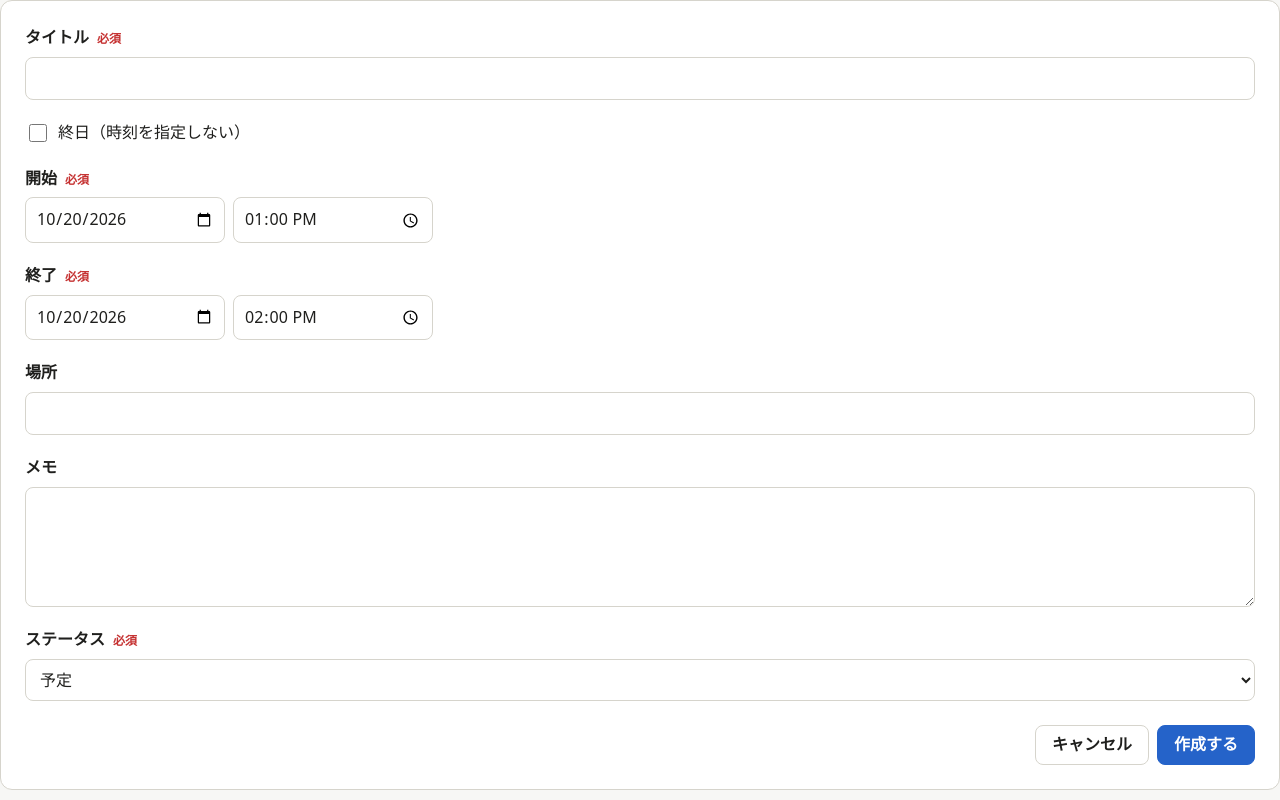
it: EventForm › 終日にすると時刻の入力を隠す
The width and height of the screenshot is (1280, 800).
Click the checkbox labelled "終日（時刻を指定しない）" at [38, 133], box [29,124,47,142]
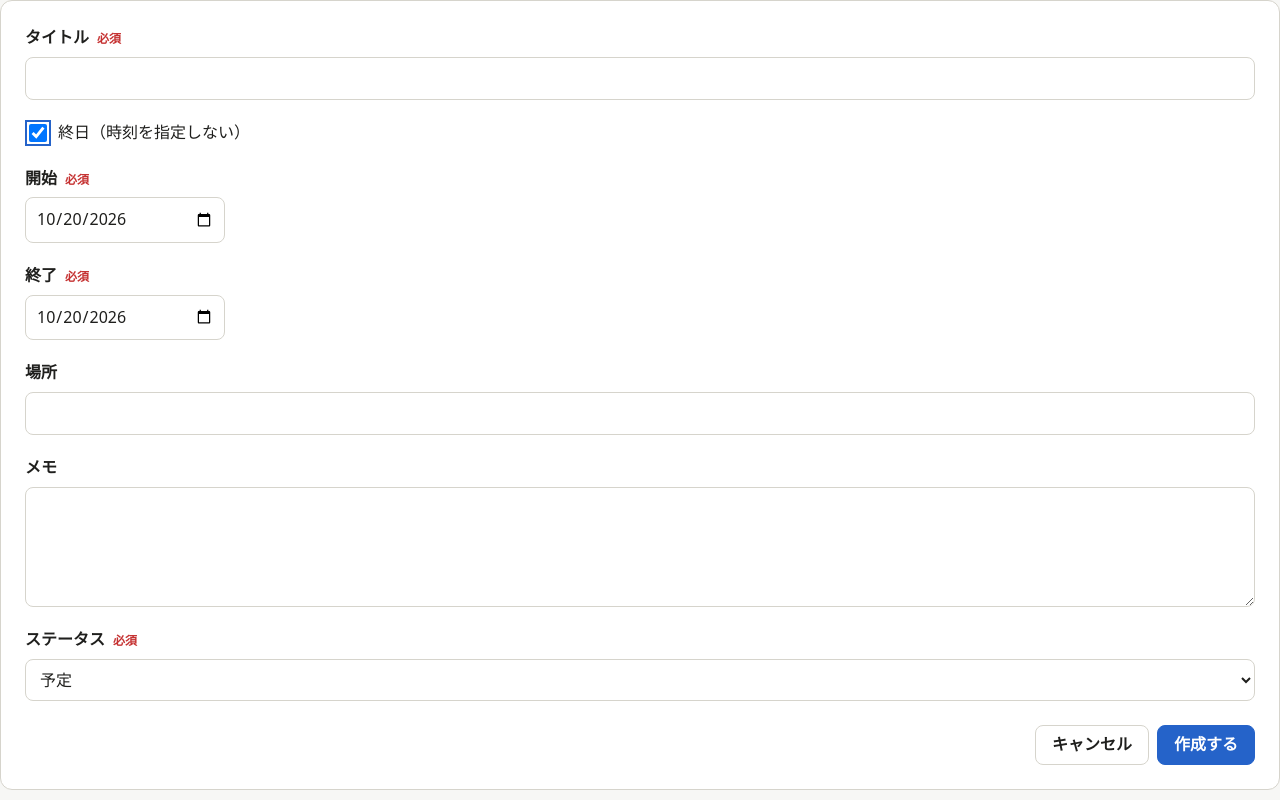
Now the time field labelled "開始時刻" is gone
Now the time field labelled "終了時刻" is gone
